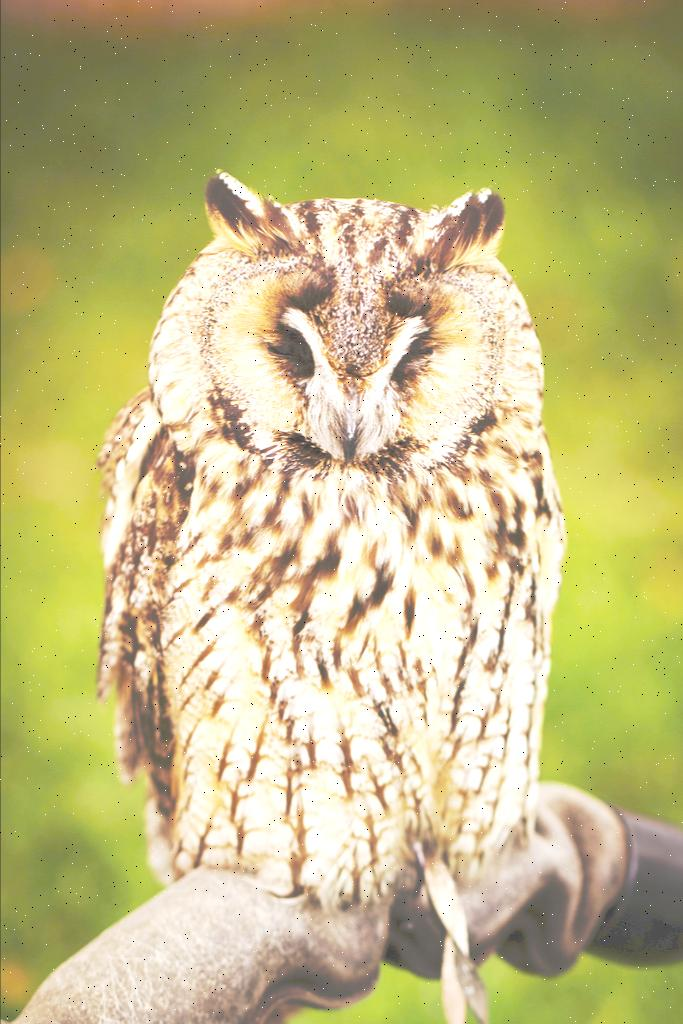Owl: (94, 166, 568, 1024)
